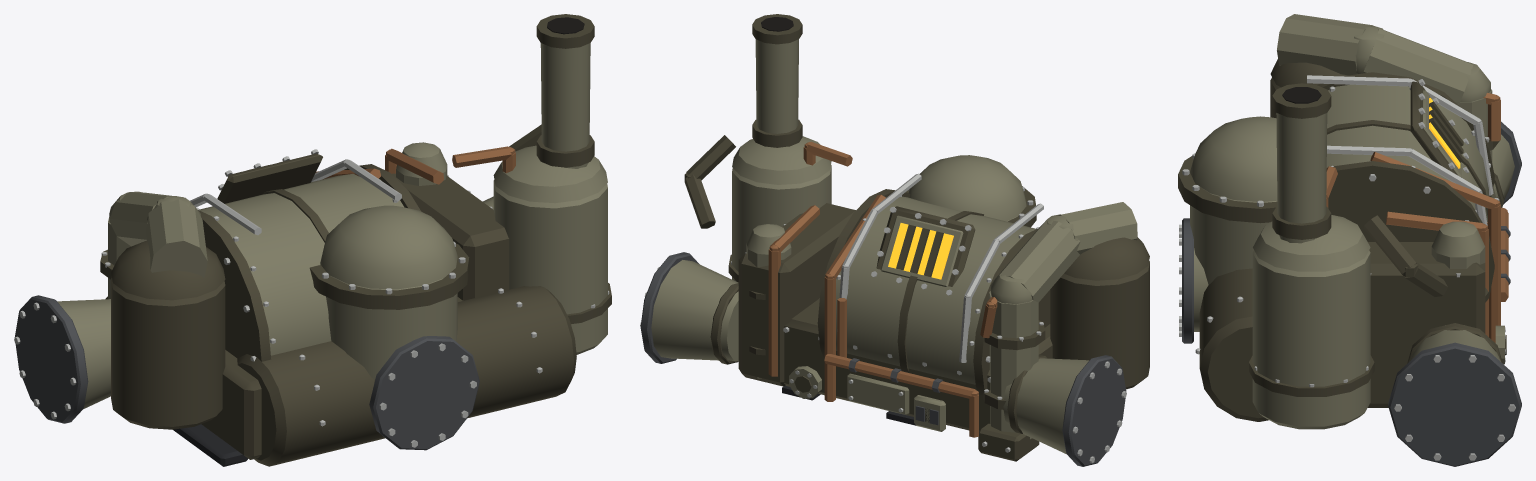
Rendered from boiler-south.glb.
The picture shows the model from 3 angles, left to right: view 1: azimuth 30°, elevation 25°; view 2: azimuth 150°, elevation 25°; view 3: azimuth 270°, elevation 25°; orthographic projection. The views are drawn at different scales.
Parts seen in each view (by area): view 1: body; view 2: body; view 3: body.
Part boxes in pixels (x1,y1,x2,y2): body: [14, 14, 611, 466]; body: [640, 14, 1149, 466]; body: [1178, 14, 1521, 466].
Size of the model in its own units: 2.99 by 1.96 by 1.75.
